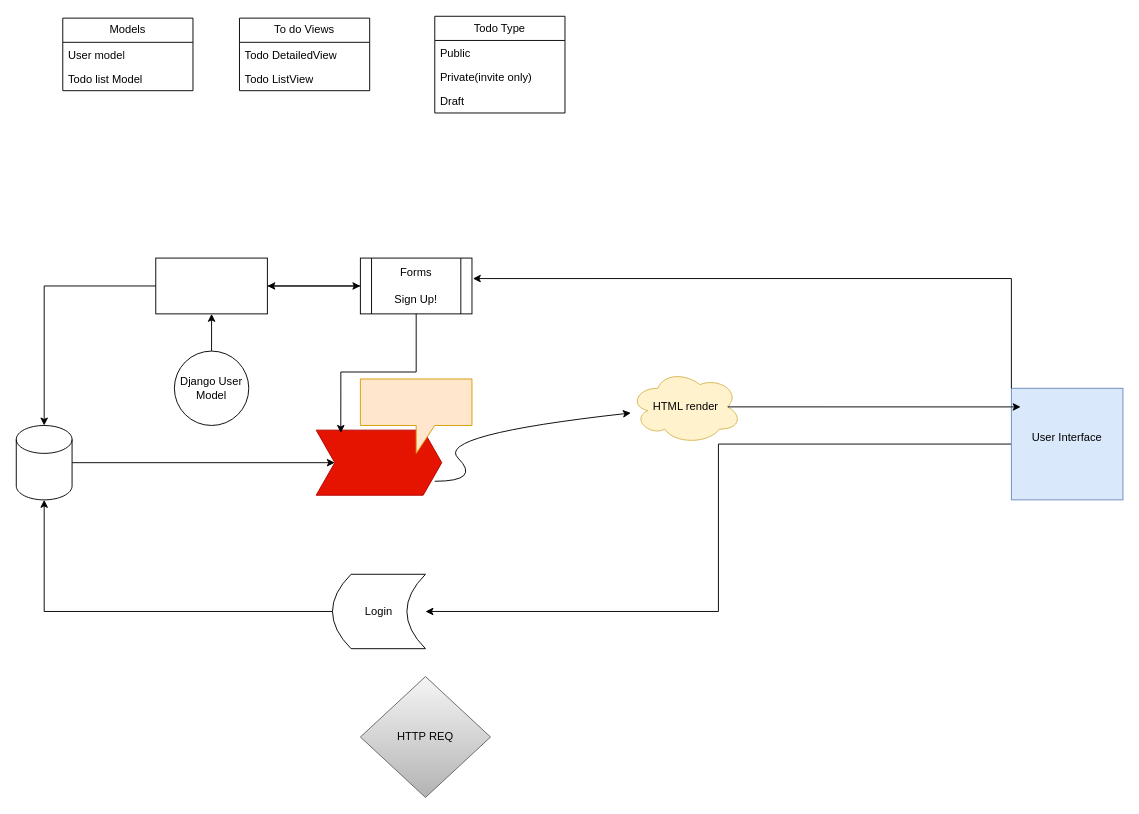
The diagram is 1139 pixels wide and 814 high, and some of its shapes have lost their labels. The centre of each missing label's shape, as x and y in pixels:
"Inheriting User model" belongs at (x=211, y=285).
"SQL DB" belongs at (x=43, y=462).
"View" belongs at (x=378, y=462).
"With urls leading the way" belongs at (x=415, y=415).
